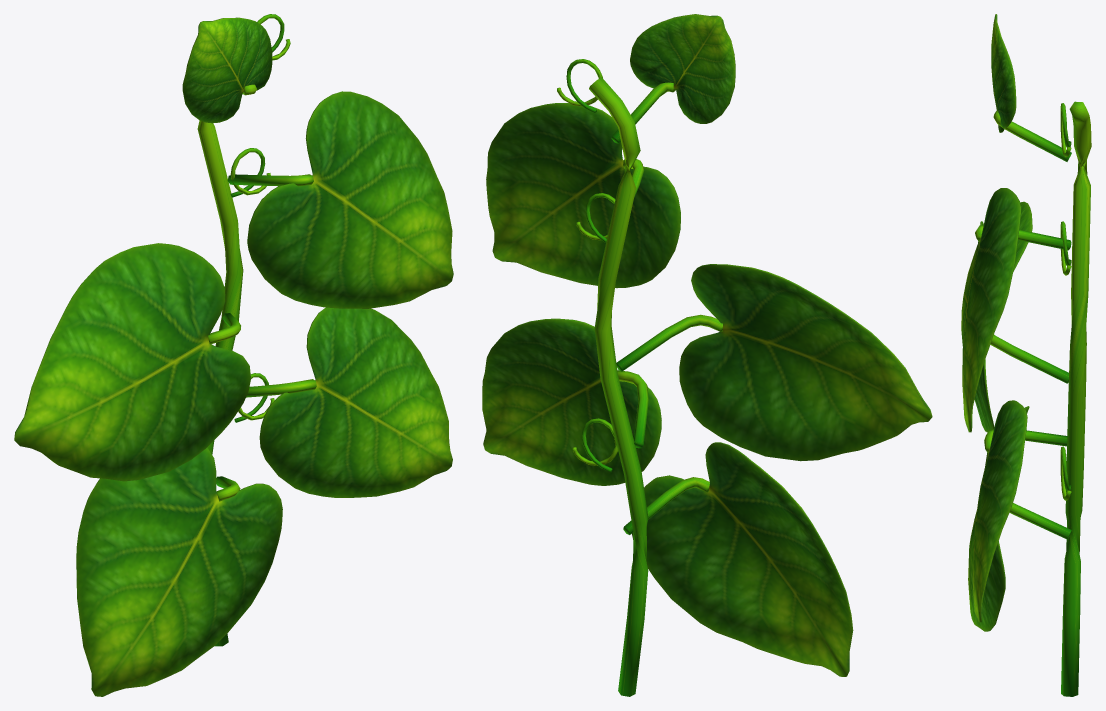
The model's file is NP_Kiwi_Young_LOD1.fbx.
3 views of the same model, side by side, from view 1: azimuth 30°, elevation 25°; view 2: azimuth 150°, elevation 25°; view 3: azimuth 270°, elevation 25° (orthographic).
Parts seen in each view (by area): view 1: NP_Kiwi_Young; view 2: NP_Kiwi_Young; view 3: NP_Kiwi_Young.
Boxes of the visible parts, left/top/right/bottom form: NP_Kiwi_Young: left=14, top=14, right=453, bottom=696; NP_Kiwi_Young: left=482, top=14, right=932, bottom=696; NP_Kiwi_Young: left=961, top=14, right=1091, bottom=696.
Bounding box in the file's own units: 57.45 × 82.08 × 14.79.
